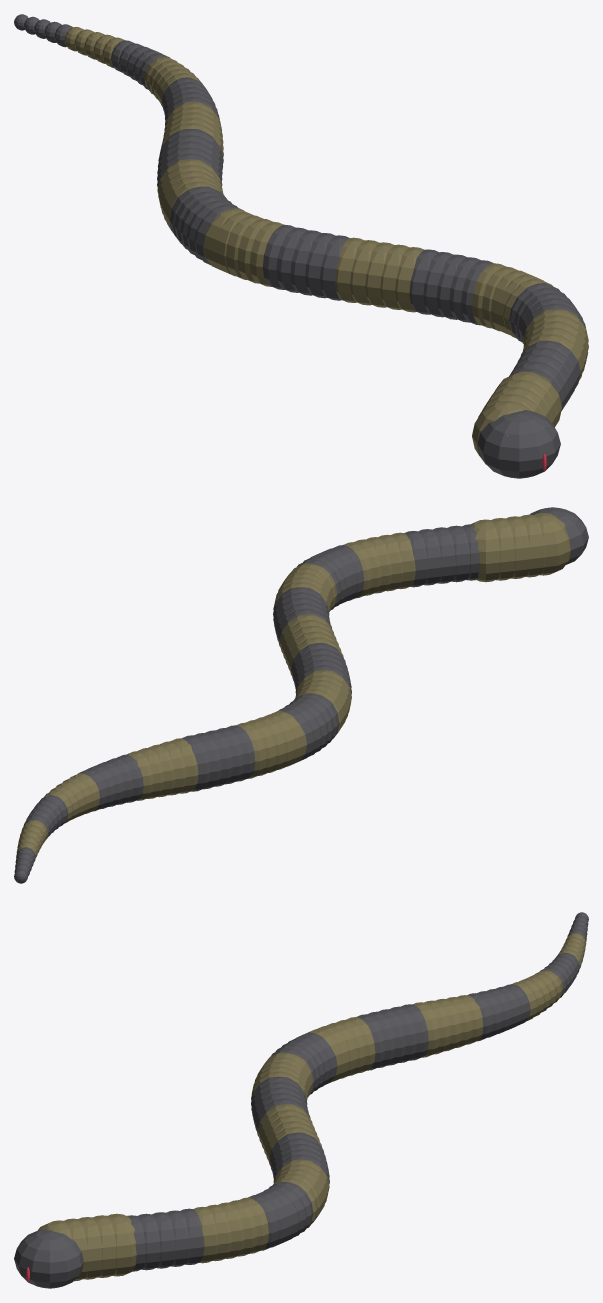
File: Snake_Slither_Dark.glb
The picture shows the model from 3 angles, top to bottom: view 1: azimuth 30°, elevation 25°; view 2: azimuth 150°, elevation 25°; view 3: azimuth 330°, elevation 25°; orthographic projection. The views are drawn at different scales.
Parts seen in each view (by area): view 1: Snake_Slither_Dark; view 2: Snake_Slither_Dark; view 3: Snake_Slither_Dark.
Part boxes in pixels (box(x1,y1,x2,y2)): Snake_Slither_Dark: box(14, 14, 588, 478); Snake_Slither_Dark: box(14, 507, 588, 883); Snake_Slither_Dark: box(14, 912, 588, 1288).
Size of the model in its own units: 0.3386 by 0.1 by 1.61.
